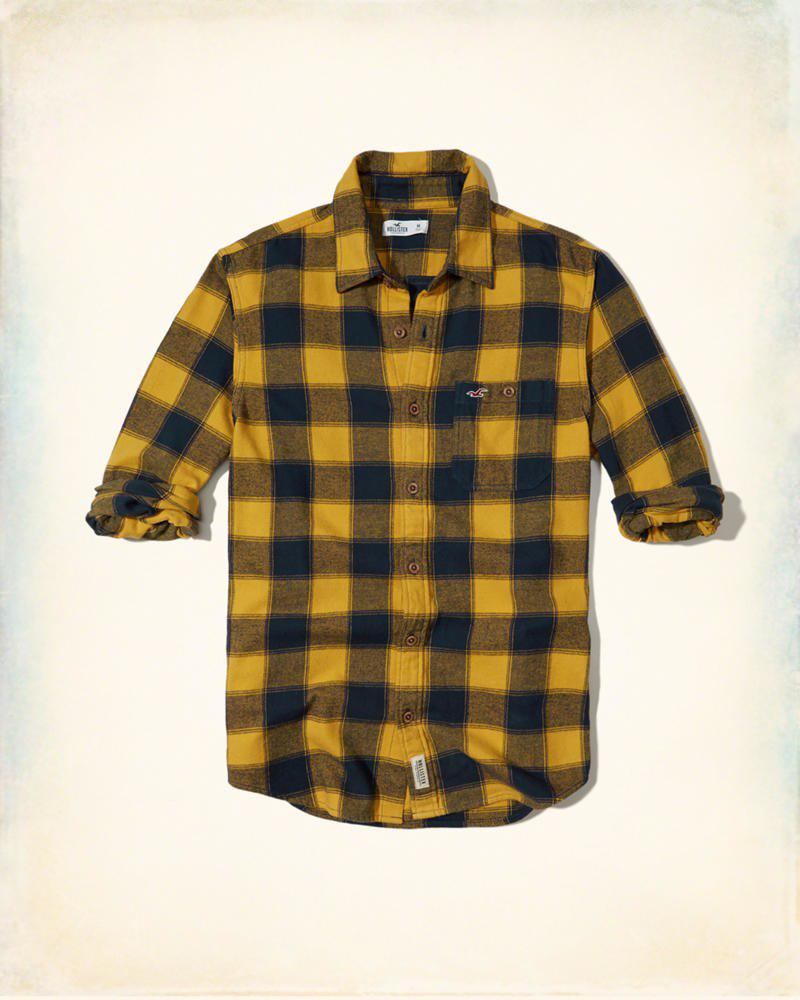teeshirt: (82, 143, 730, 850)
